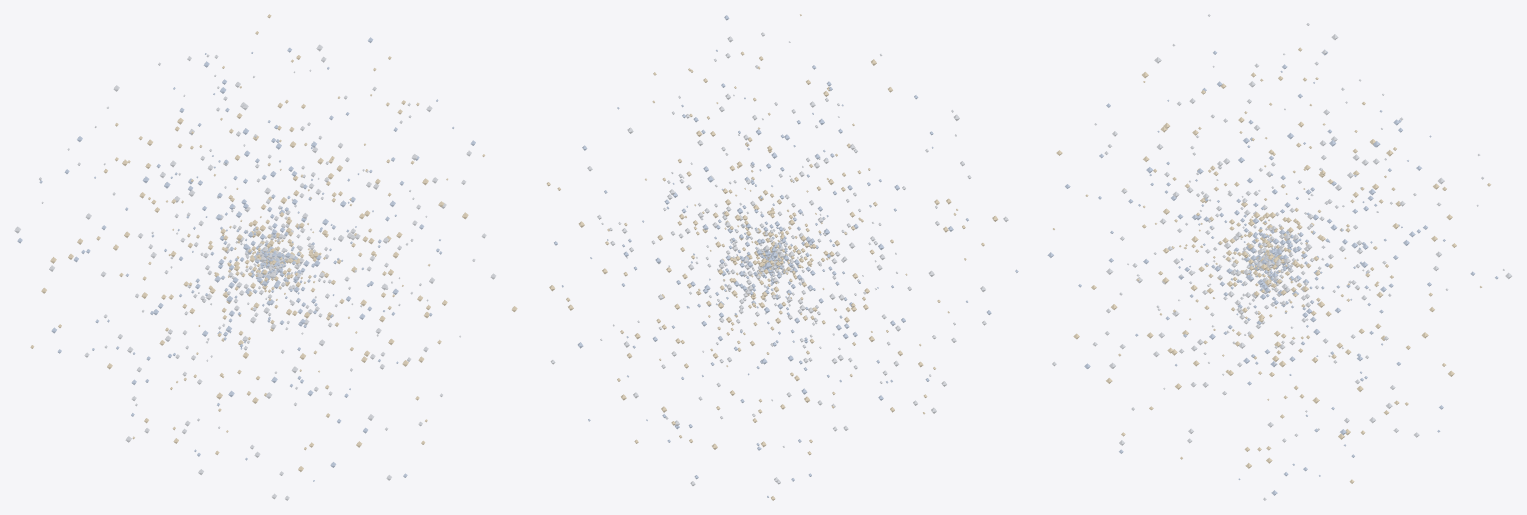
3 views of the same model, side by side, from view 1: azimuth 30°, elevation 25°; view 2: azimuth 150°, elevation 25°; view 3: azimuth 270°, elevation 25° (orthographic). The views are drawn at different scales.
Size of the model in its own units: 4.73 by 4.89 by 4.83.
